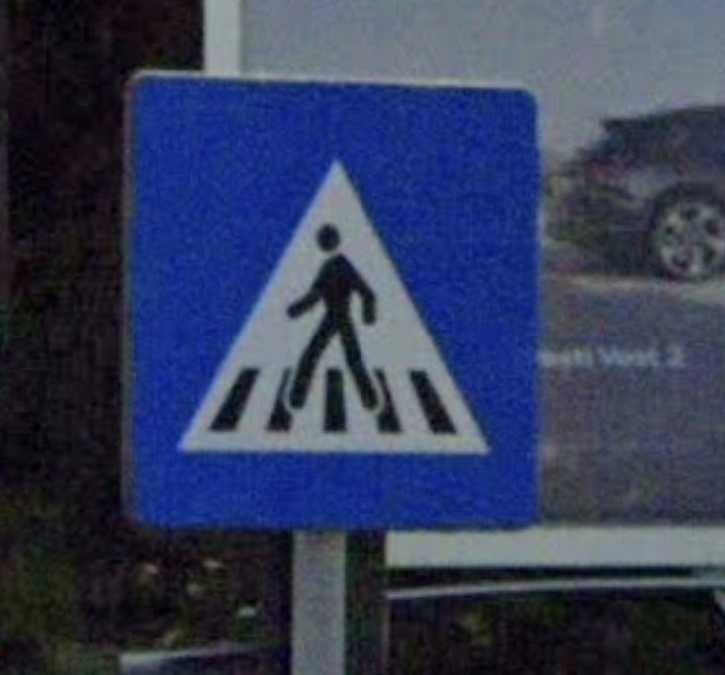trecere_pietoni: (120, 57, 543, 541)
